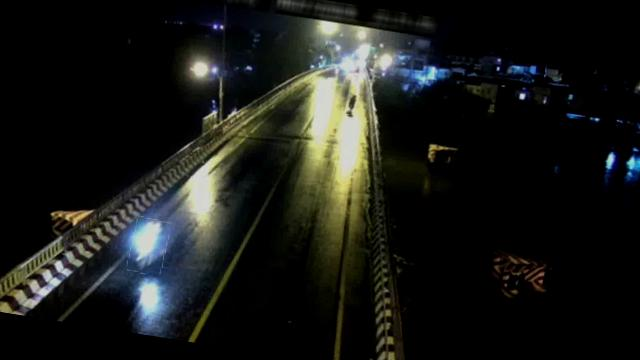Bike: (128, 216, 172, 276), (345, 92, 360, 116)
